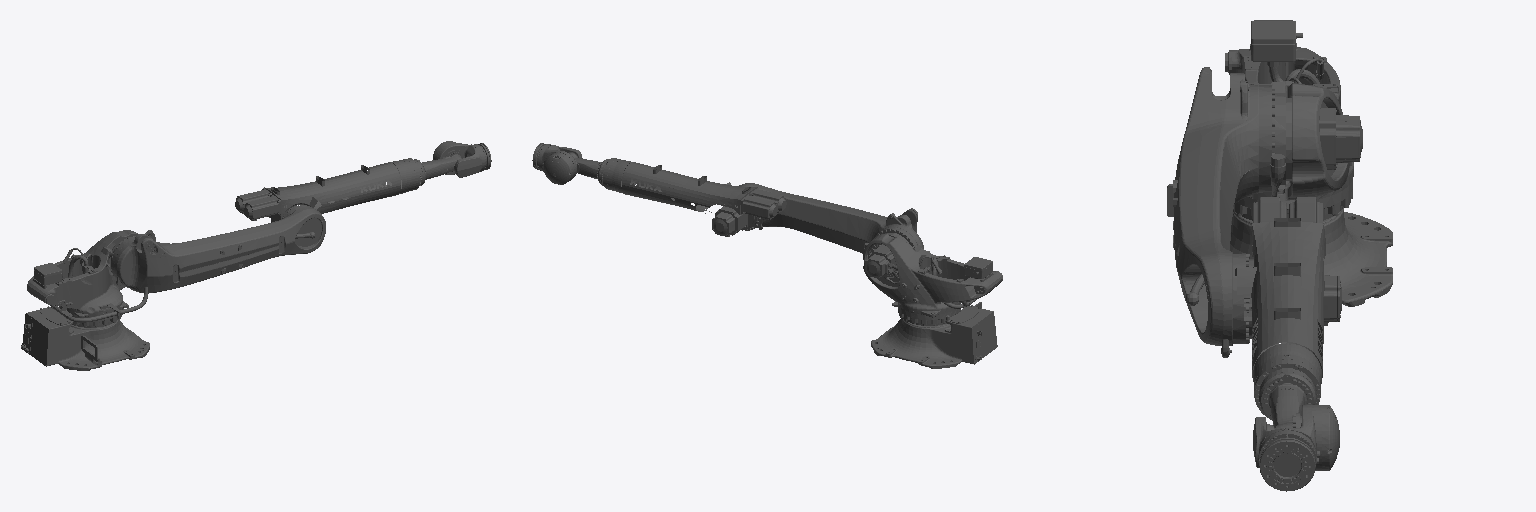
robot.urdf — kr_210_r3100-2_v02:
<?xml version="1.0" encoding="utf-8"?>
<!-- This URDF was automatically created by SolidWorks to URDF Exporter! Originally created by [author] ([email redacted]) 
     Commit Version: 1.6.0-1-g15f4949  Build Version: 1.6.7594.29634
     For more information, please see http://wiki.ros.org/sw_urdf_exporter -->
<robot
  name="kr_210_r3100-2_v02">
  <link
    name="base_link">
    <inertial>
      <origin
        xyz="-0.10967 -0.0017375 0.10512"
        rpy="0 0 0" />
      <mass
        value="69.137" />
      <inertia
        ixx="1.5959"
        ixy="0.0085691"
        ixz="0.36741"
        iyy="3.5005"
        iyz="-0.0020918"
        izz="4.2719" />
    </inertial>
    <visual>
      <origin
        xyz="0 0 0"
        rpy="0 0 0" />
      <geometry>
        <mesh
          filename="package://kr_210_r3100-2_v02/meshes/base_link.STL" />
      </geometry>
      <material
        name="">
        <color
          rgba="0.4 0.4 0.4 1" />
      </material>
    </visual>
    <collision>
      <origin
        xyz="0 0 0"
        rpy="0 0 0" />
      <geometry>
        <mesh
          filename="package://kr_210_r3100-2_v02/meshes/base_link.STL" />
      </geometry>
    </collision>
  </link>
  <link
    name="link_1">
    <inertial>
      <origin
        xyz="0.32903 0.12615 0.4094"
        rpy="0 0 0" />
      <mass
        value="6.8182" />
      <inertia
        ixx="0.04654"
        ixy="0.00044646"
        ixz="1.3773E-08"
        iyy="0.03178"
        iyz="5.6574E-08"
        izz="0.04705" />
    </inertial>
    <visual>
      <origin
        xyz="0 0 0"
        rpy="0 0 0" />
      <geometry>
        <mesh
          filename="package://kr_210_r3100-2_v02/meshes/link_1.STL" />
      </geometry>
      <material
        name="">
        <color
          rgba="0.4 0.4 0.4 1" />
      </material>
    </visual>
    <collision>
      <origin
        xyz="0 0 0"
        rpy="0 0 0" />
      <geometry>
        <mesh
          filename="package://kr_210_r3100-2_v02/meshes/link_1.STL" />
      </geometry>
    </collision>
  </link>
  <joint
    name="joint_a1"
    type="revolute">
    <origin
      xyz="0.0061558 0 0.2256"
      rpy="0 0 0" />
    <parent
      link="base_link" />
    <child
      link="link_1" />
    <axis
      xyz="0 0 1" />
    <limit
      lower="-3.14"
      upper="3.14"
      effort="0"
      velocity="0" />
  </joint>
  <link
    name="link_2">
    <inertial>
      <origin
        xyz="0.53587 0.001548 -0.24013"
        rpy="0 0 0" />
      <mass
        value="98.626" />
      <inertia
        ixx="1.6623"
        ixy="0.091397"
        ixz="1.4945"
        iyy="25.464"
        iyz="0.0013736"
        izz="25.241" />
    </inertial>
    <visual>
      <origin
        xyz="0 0 0"
        rpy="0 0 0" />
      <geometry>
        <mesh
          filename="package://kr_210_r3100-2_v02/meshes/link_2.STL" />
      </geometry>
      <material
        name="">
        <color
          rgba="0.4 0.4 0.4 1" />
      </material>
    </visual>
    <collision>
      <origin
        xyz="0 0 0"
        rpy="0 0 0" />
      <geometry>
        <mesh
          filename="package://kr_210_r3100-2_v02/meshes/link_2.STL" />
      </geometry>
    </collision>
  </link>
  <joint
    name="joint_a2"
    type="revolute">
    <origin
      xyz="0.33002 0.0090001 0.40937"
      rpy="-1.5708 0 0" />
    <parent
      link="link_1" />
    <child
      link="link_2" />
    <axis
      xyz="0 0 1" />
    <limit
      lower="-3.14"
      upper="3.14"
      effort="0"
      velocity="0" />
  </joint>
  <link
    name="link_3">
    <inertial>
      <origin
        xyz="0.0802900117763414 -0.125478502915676 0.0907889541263482"
        rpy="0 0 0" />
      <mass
        value="13.1780351288155" />
      <inertia
        ixx="0.087771211337227"
        ixy="-0.000202004164649328"
        ixz="0.00044198584868771"
        iyy="0.0595564700843223"
        iyz="-5.13805553066225E-06"
        izz="0.0731652127601232" />
    </inertial>
    <visual>
      <origin
        xyz="0 0 0"
        rpy="0 0 0" />
      <geometry>
        <mesh
          filename="package://kr_210_r3100-2_v02/meshes/link_3.STL" />
      </geometry>
      <material
        name="">
        <color
          rgba="0.4 0.4 0.4 1" />
      </material>
    </visual>
    <collision>
      <origin
        xyz="0 0 0"
        rpy="0 0 0" />
      <geometry>
        <mesh
          filename="package://kr_210_r3100-2_v02/meshes/link_3.STL" />
      </geometry>
    </collision>
  </link>
  <joint
    name="joint_a3"
    type="revolute">
    <origin
      xyz="1.35 -2.8782E-05 -0.071"
      rpy="0 0 -1.5708" />
    <parent
      link="link_2" />
    <child
      link="link_3" />
    <axis
      xyz="0 0 1" />
    <limit
      lower="-3.14"
      upper="3.14"
      effort="0"
      velocity="0" />
  </joint>
  <link
    name="link_4">
    <inertial>
      <origin
        xyz="-6.572E-06 -0.0044926 0.18467"
        rpy="0 0 0" />
      <mass
        value="5.0535" />
      <inertia
        ixx="0.088804"
        ixy="8.9573E-07"
        ixz="-2.0216E-06"
        iyy="0.089166"
        iyz="0.0040501"
        izz="0.012447" />
    </inertial>
    <visual>
      <origin
        xyz="0 0 0"
        rpy="0 0 0" />
      <geometry>
        <mesh
          filename="package://kr_210_r3100-2_v02/meshes/link_4.STL" />
      </geometry>
      <material
        name="">
        <color
          rgba="0.4 0.4 0.4 1" />
      </material>
    </visual>
    <collision>
      <origin
        xyz="0 0 0"
        rpy="0 0 0" />
      <geometry>
        <mesh
          filename="package://kr_210_r3100-2_v02/meshes/link_4.STL" />
      </geometry>
    </collision>
  </link>
  <joint
    name="joint_a4"
    type="revolute">
    <origin
      xyz="0.115 1.0685 0.062"
      rpy="-1.5708 0 0" />
    <parent
      link="link_3" />
    <child
      link="link_4" />
    <axis
      xyz="0 0 -1" />
    <limit
      lower="-3.14"
      upper="3.14"
      effort="0"
      velocity="0" />
  </joint>
  <link
    name="link_5">
    <inertial>
      <origin
        xyz="-6.0688E-05 0.057604 -0.012629"
        rpy="0 0 0" />
      <mass
        value="10.003" />
      <inertia
        ixx="0.14296"
        ixy="3.1916E-05"
        ixz="1.1873E-05"
        iyy="0.098519"
        iyz="0.029393"
        izz="0.10143" />
    </inertial>
    <visual>
      <origin
        xyz="0 0 0"
        rpy="0 0 0" />
      <geometry>
        <mesh
          filename="package://kr_210_r3100-2_v02/meshes/link_5.STL" />
      </geometry>
      <material
        name="">
        <color
          rgba="0.4 0.4 0.4 1" />
      </material>
    </visual>
    <collision>
      <origin
        xyz="0 0 0"
        rpy="0 0 0" />
      <geometry>
        <mesh
          filename="package://kr_210_r3100-2_v02/meshes/link_5.STL" />
      </geometry>
    </collision>
  </link>
  <joint
    name="joint_a5"
    type="revolute">
    <origin
      xyz="3.2106E-05 -0.059 0.35153"
      rpy="1.5708 0 0" />
    <parent
      link="link_4" />
    <child
      link="link_5" />
    <axis
      xyz="0 0 -1" />
    <limit
      lower="-3.14"
      upper="3.14"
      effort="0"
      velocity="0" />
  </joint>
  <link
    name="link_6">
    <inertial>
      <origin
        xyz="1.3996E-05 -5.1777E-05 0.021694"
        rpy="0 0 0" />
      <mass
        value="0.83898" />
      <inertia
        ixx="0.0021717"
        ixy="5.9101E-08"
        ixz="1.2263E-07"
        iyy="0.0021671"
        iyz="1.2468E-07"
        izz="0.0041792" />
    </inertial>
    <visual>
      <origin
        xyz="0 0 0"
        rpy="0 0 0" />
      <geometry>
        <mesh
          filename="package://kr_210_r3100-2_v02/meshes/link_6.STL" />
      </geometry>
      <material
        name="">
        <color
          rgba="0.4 0.4 0.4 1" />
      </material>
    </visual>
    <collision>
      <origin
        xyz="0 0 0"
        rpy="0 0 0" />
      <geometry>
        <mesh
          filename="package://kr_210_r3100-2_v02/meshes/link_6.STL" />
      </geometry>
    </collision>
  </link>
  <joint
    name="joint_a6"
    type="revolute">
    <origin
      xyz="-3.2106E-05 0.20007 -0.059"
      rpy="-1.5708 0 0" />
    <parent
      link="link_5" />
    <child
      link="link_6" />
    <axis
      xyz="0 0 -1" />
    <limit
      lower="-3.14"
      upper="3.14"
      effort="0"
      velocity="0" />
  </joint>
</robot>

--- What the picture shows (computed from the rendered views, not written in the file) ---
3 views of the same robot in one strip: view 1: azimuth 30°, elevation 25°; view 2: azimuth 150°, elevation 25°; view 3: azimuth 270°, elevation 25° (orthographic).
Model kr_210_r3100-2_v02 with 7 links and 6 joints (6 revolute), rooted at base_link, posed all joints at 0.
Visible links, largest first — view 1: link_2, link_1, link_3, base_link, link_5, link_4; view 2: link_1, link_3, base_link, link_2, link_5; view 3: link_2, link_3, link_1, base_link, link_5, link_6, link_4.
Boxes of the visible links, x1,y1,x2,y2 form: link_2: [111, 205, 325, 293]; link_1: [27, 230, 147, 327]; link_3: [235, 158, 422, 222]; base_link: [21, 306, 149, 370]; link_5: [433, 141, 486, 177]; link_4: [414, 150, 464, 185]; link_1: [863, 234, 1002, 325]; link_3: [600, 158, 786, 236]; base_link: [871, 302, 997, 368]; link_2: [724, 183, 923, 253]; link_5: [537, 144, 582, 184]; link_2: [1173, 67, 1291, 357]; link_3: [1235, 197, 1341, 419]; link_1: [1225, 20, 1362, 220]; base_link: [1167, 184, 1392, 306]; link_5: [1253, 404, 1339, 470]; link_6: [1260, 438, 1315, 491]; link_4: [1259, 372, 1315, 429].
Size in the robot's own frame: 3.86 by 0.808 by 0.9173 metres.
7 mesh visuals loaded from 7 distinct referenced files (7 binary STL).